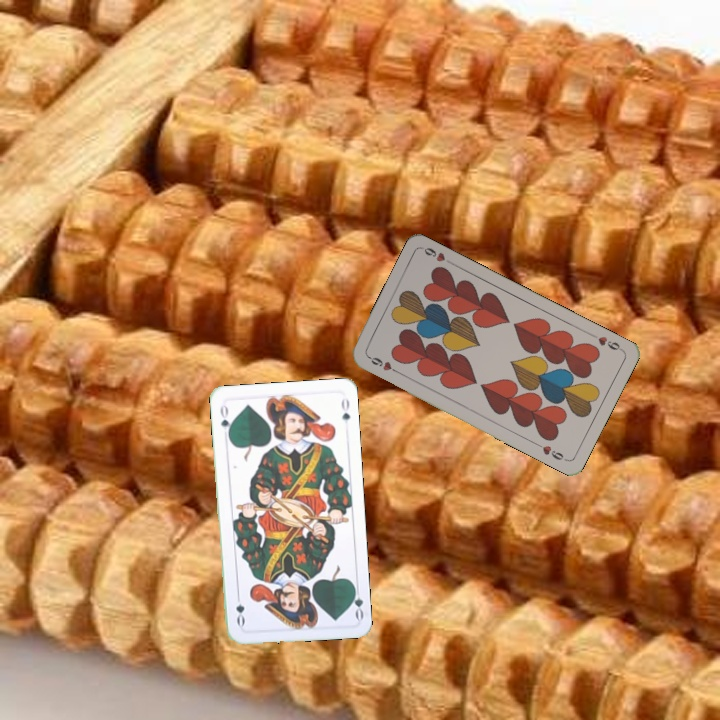GO: (347, 581, 366, 622), (216, 400, 234, 441)
H9: (587, 330, 625, 354), (364, 352, 402, 376)
